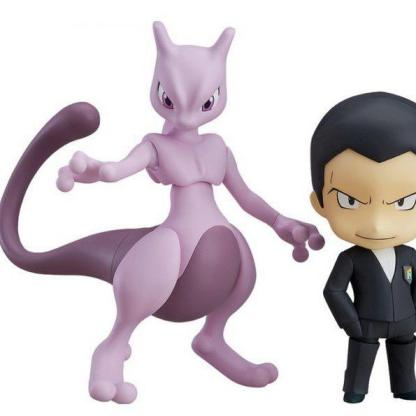Mewtwo: (1, 26, 416, 416)
